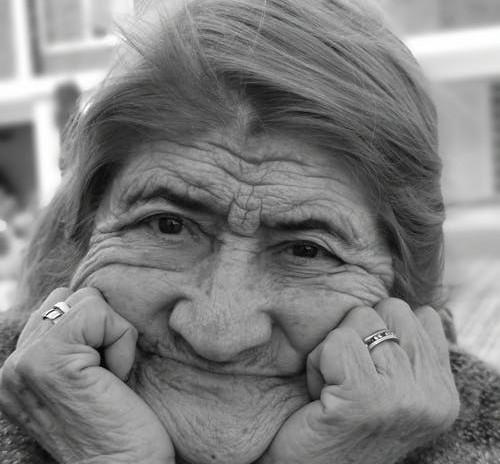Wrinkles: (153, 151, 355, 202), (198, 140, 315, 166), (75, 263, 179, 291), (150, 139, 211, 151), (297, 174, 346, 183)
